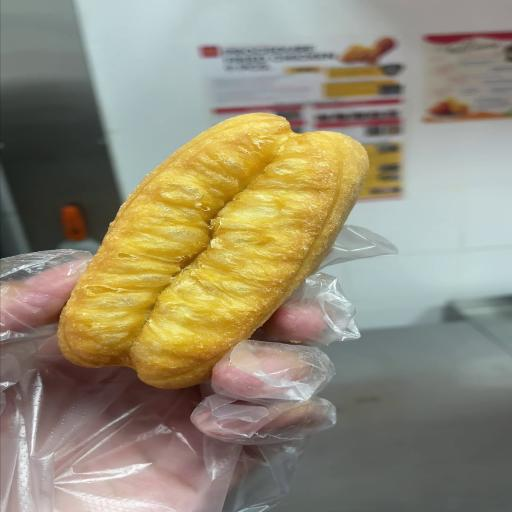brand_golden_good: (58, 113, 368, 388)
